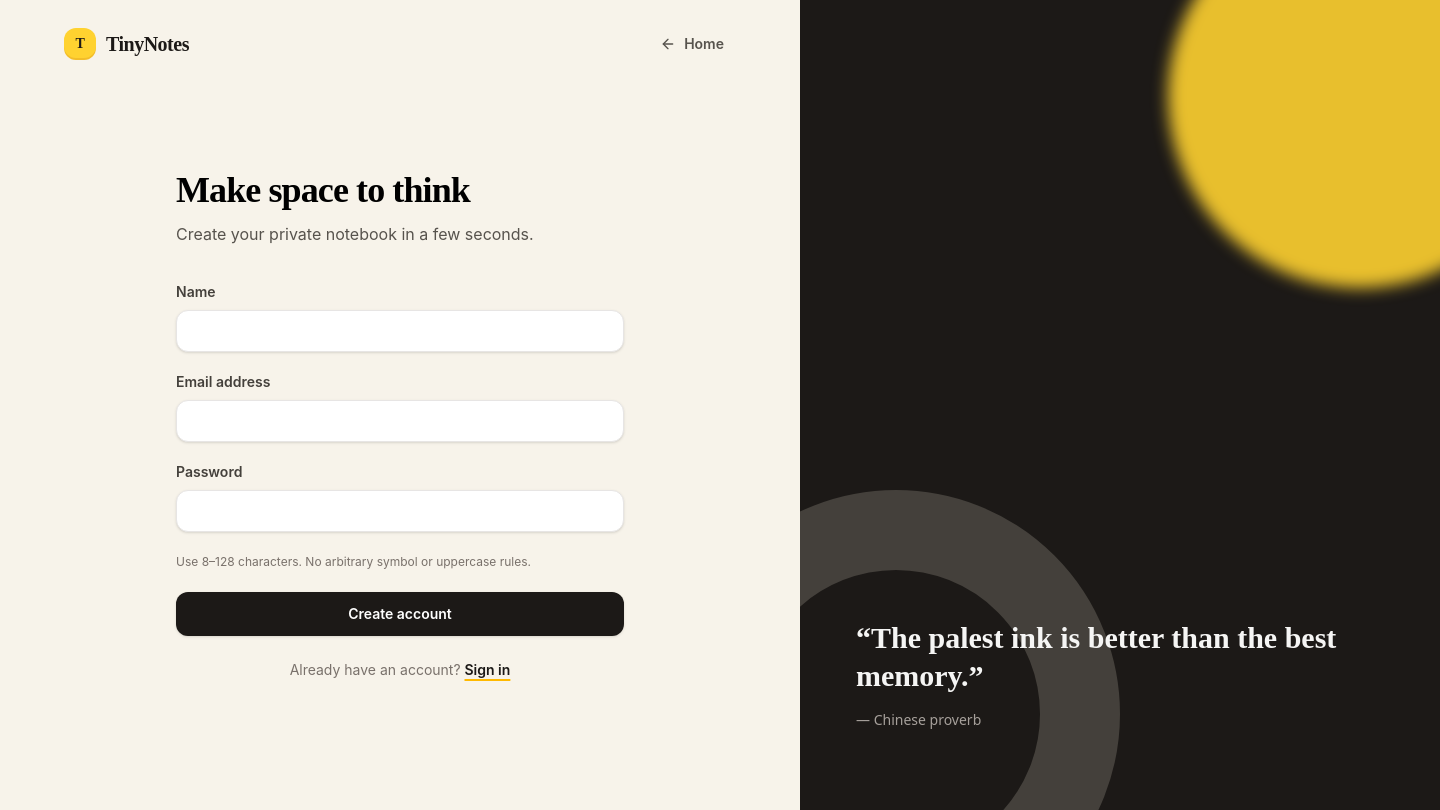
SignUpPage › reports an existing account specifically
This screenshot has width=1440, height=810.
Step 1. Type "Reader" into the field labelled "Name" → (400, 331), box [176,310,624,352]
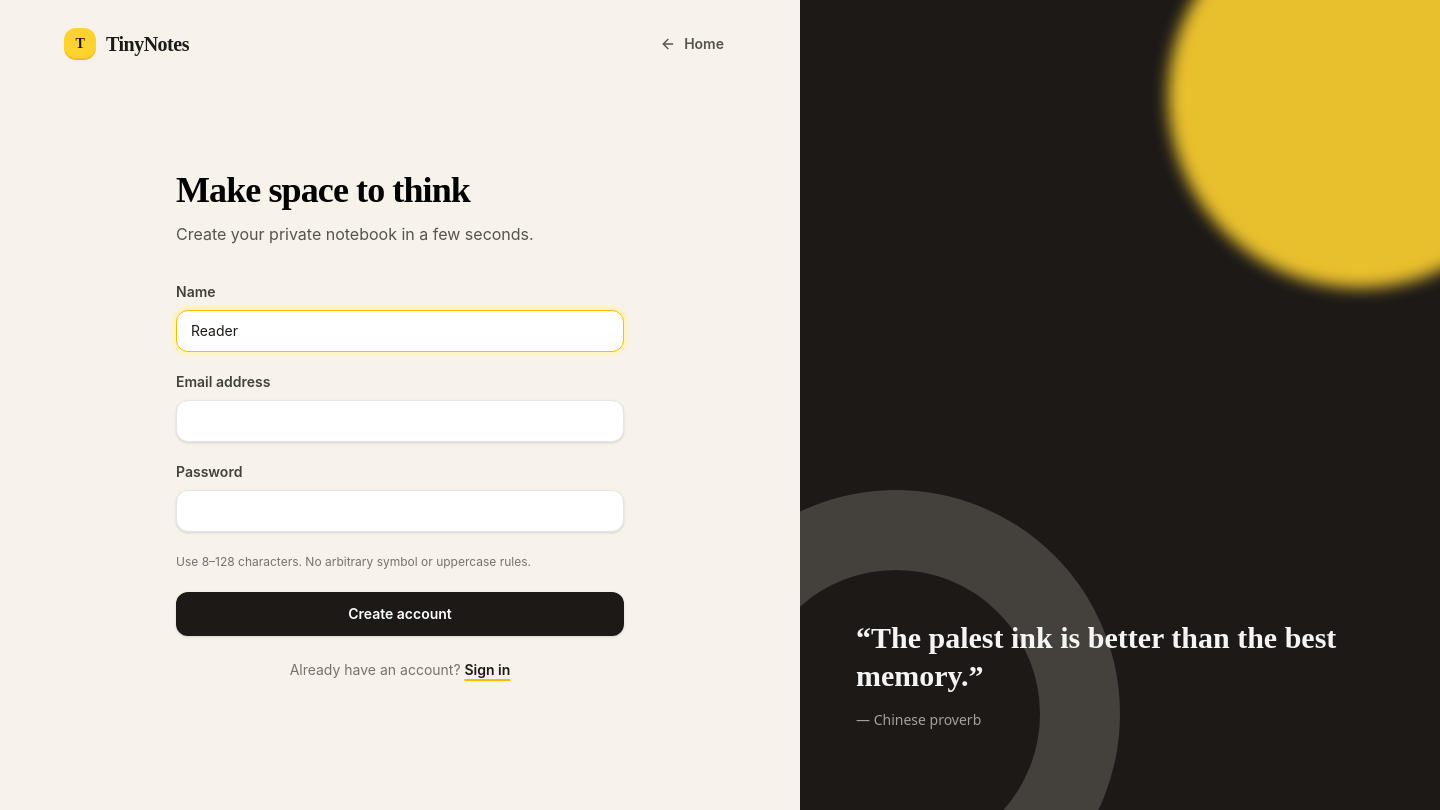
Step 2. Type "reader@example.com" into the field labelled "Email address" → (400, 421), box [176,400,624,442]
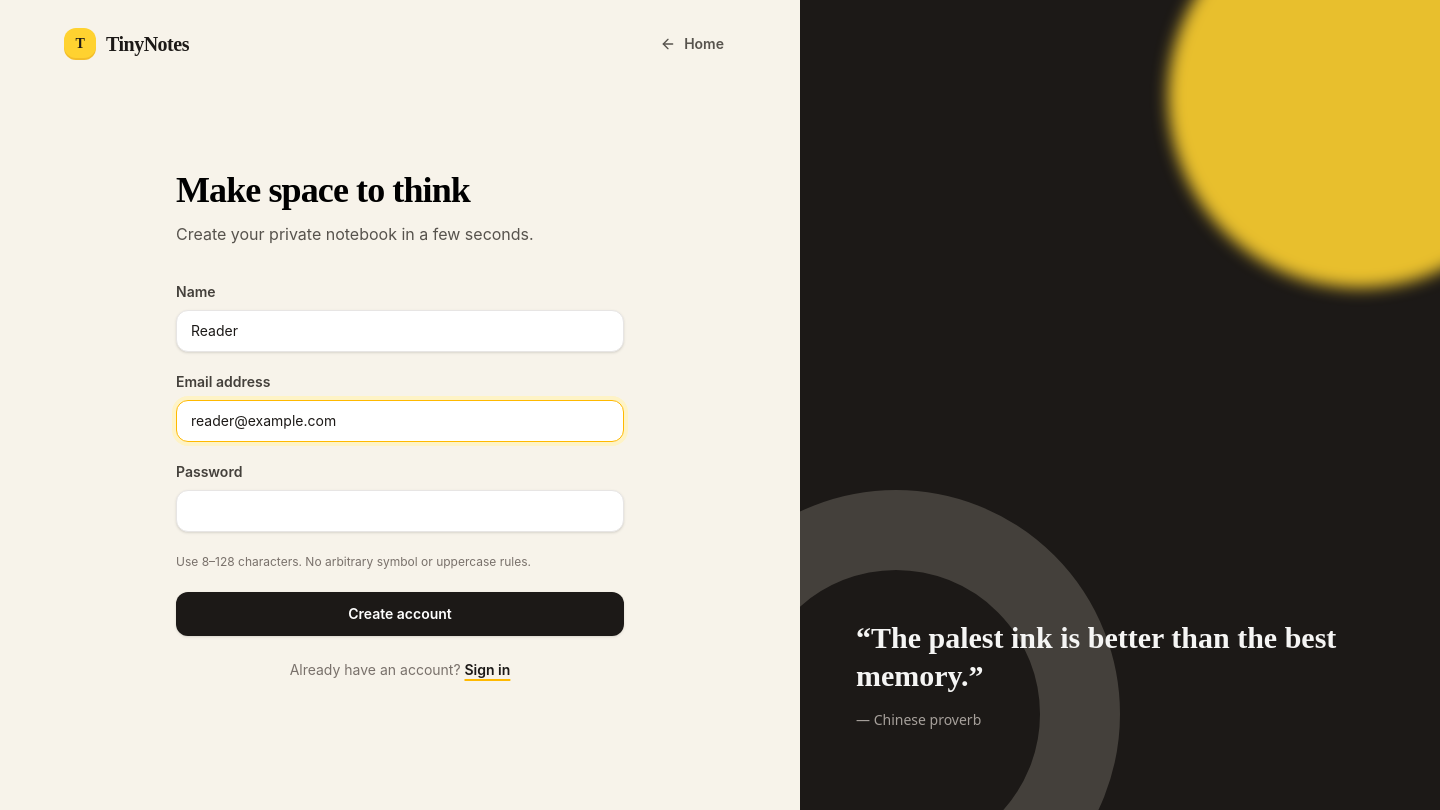
Step 3. Type "correct-length" into the password field labelled "Password" → (400, 511), box [176,490,624,532]
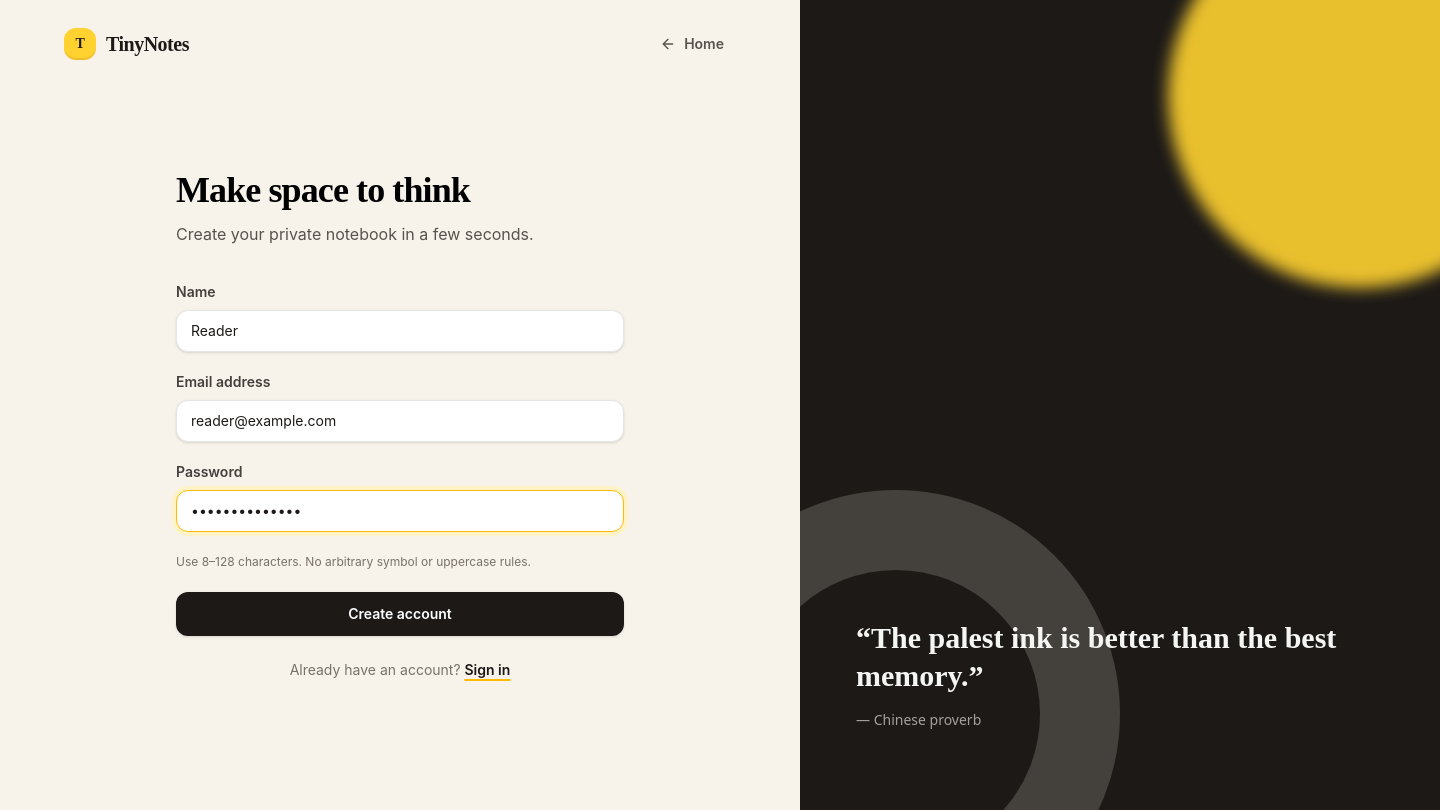
Step 4. Click the button "Create account" → (400, 614), box [176,592,624,636]
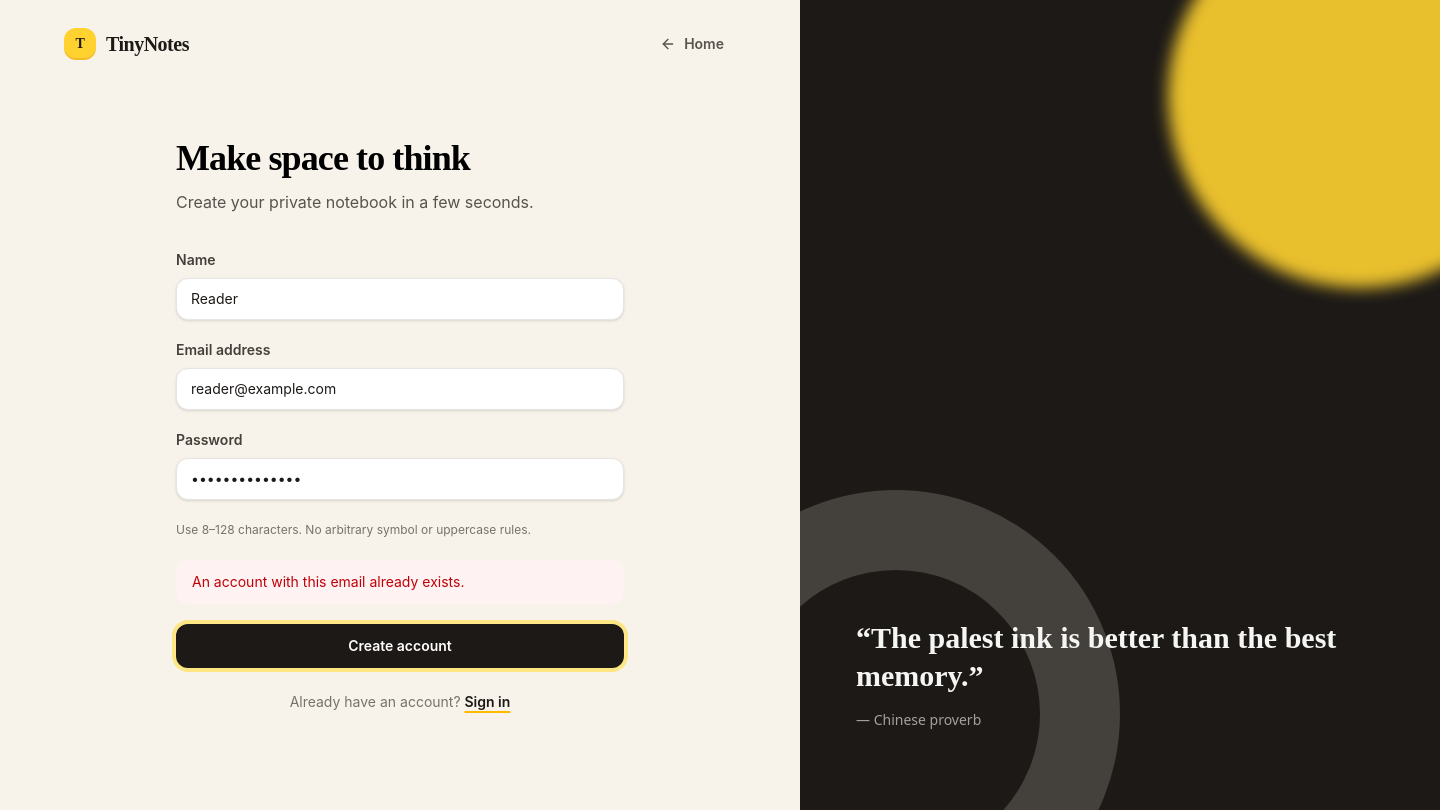
Now the message reads "An account with this email already exists.", box [192,573,464,590]
